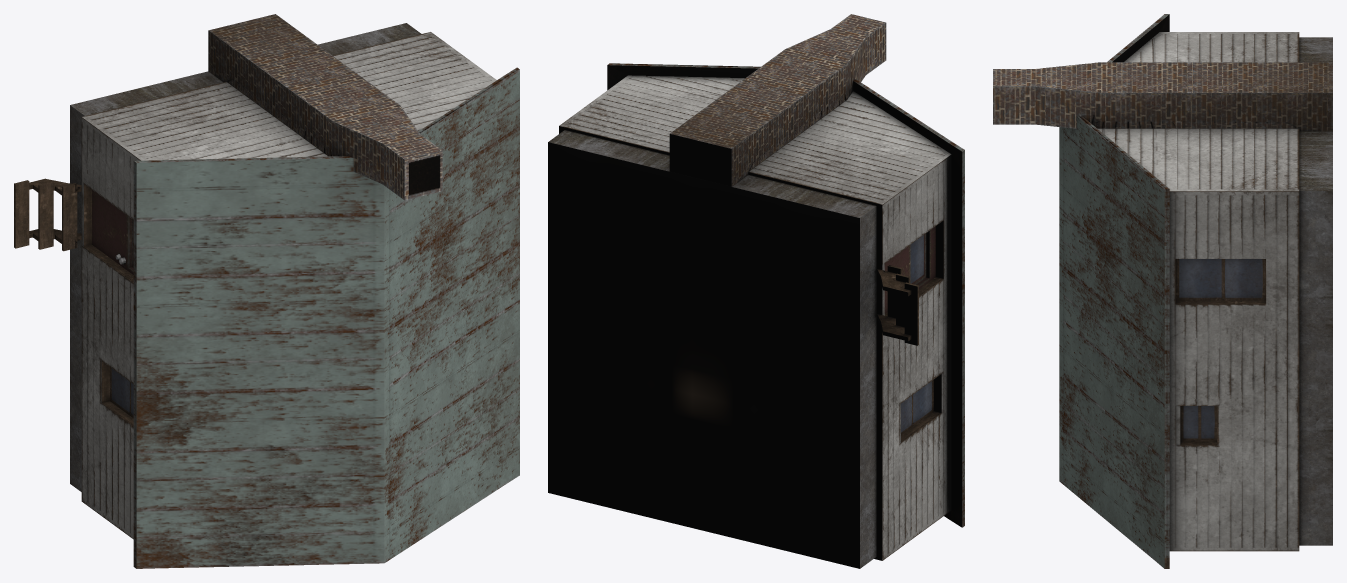
3 views of the same model, side by side, from view 1: azimuth 30°, elevation 25°; view 2: azimuth 150°, elevation 25°; view 3: azimuth 270°, elevation 25° (orthographic). The views are drawn at different scales.
Visible parts, largest first — view 1: Object001_unknown_0; view 2: Object001_unknown_0; view 3: Object001_unknown_0.
Part boxes in pixels (bbox=[...]): Object001_unknown_0: bbox=[14, 14, 519, 568]; Object001_unknown_0: bbox=[548, 14, 964, 568]; Object001_unknown_0: bbox=[993, 14, 1332, 568].
Size of the model in its own units: 955 by 944 by 717.
